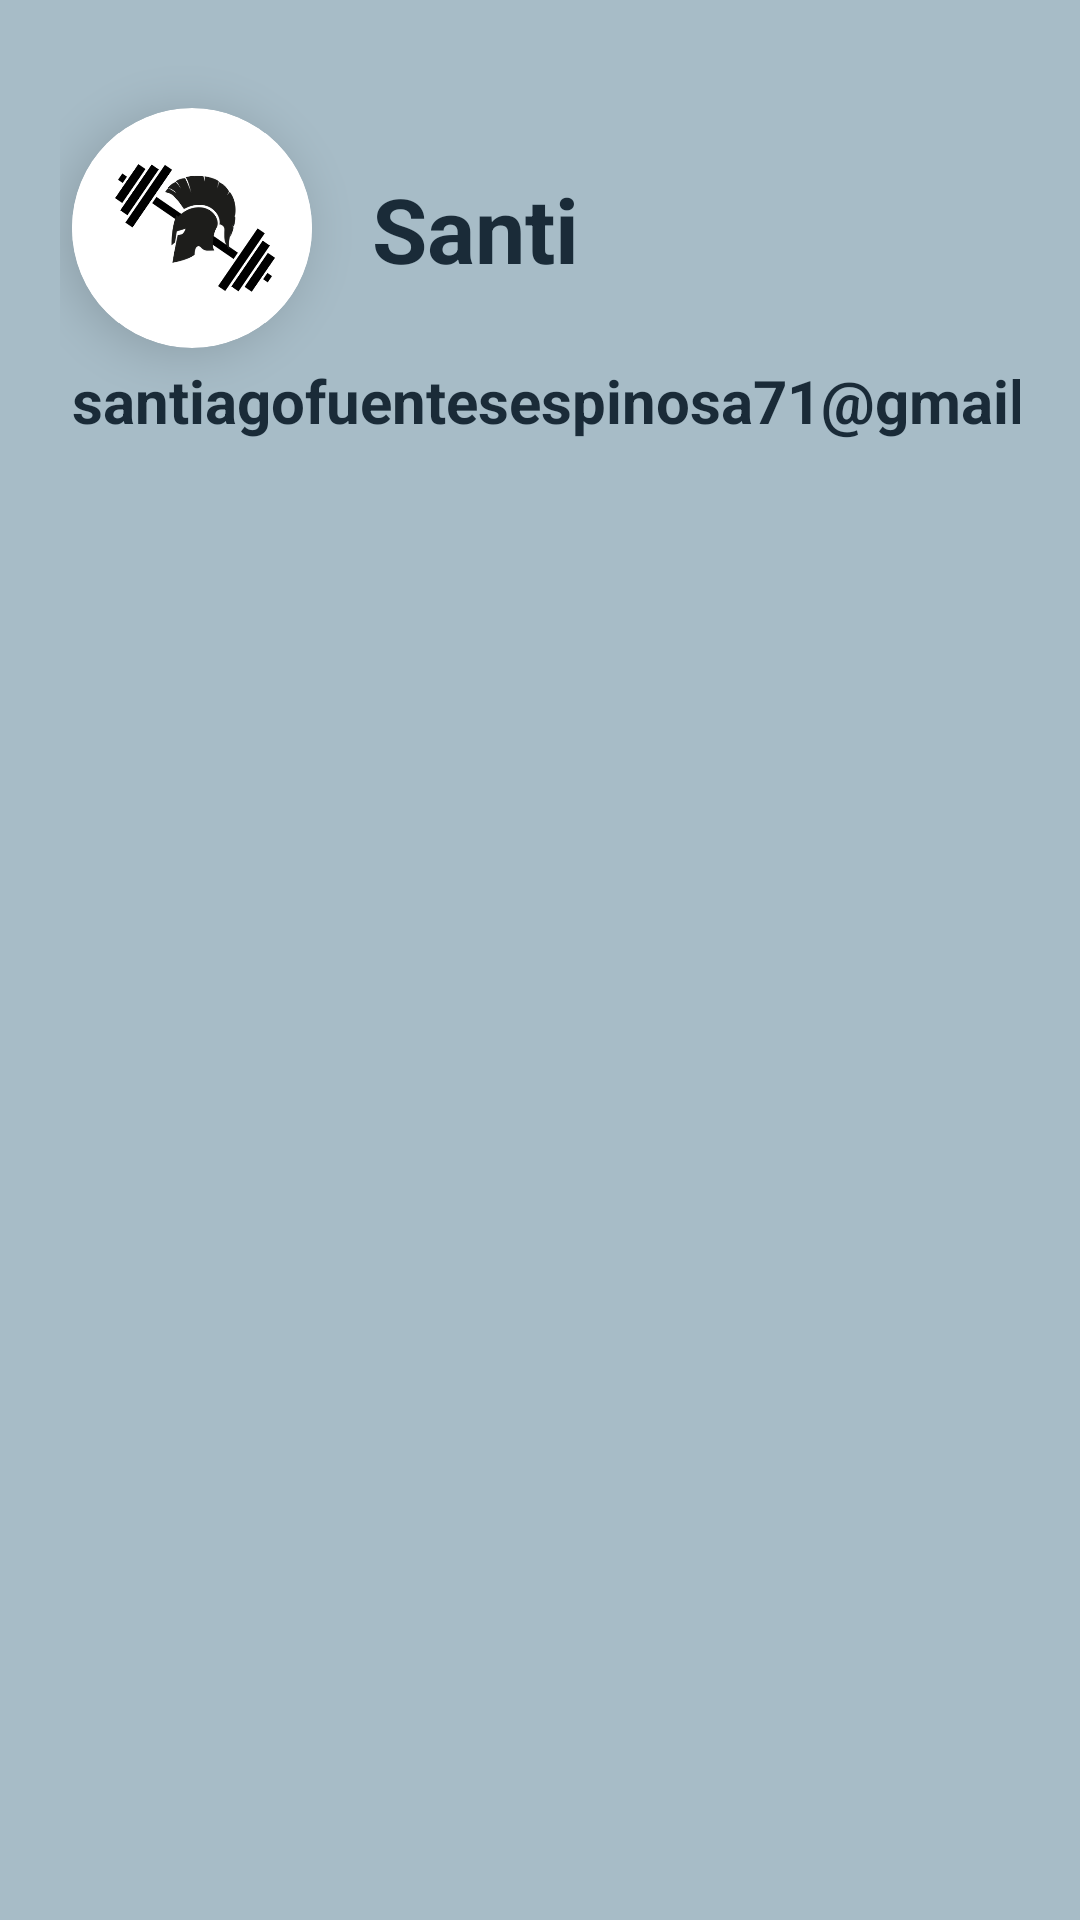

Icons on this 1080 × 1920 Android screen, each with the point to tap as (x,y):
foto principal: (192,228)
